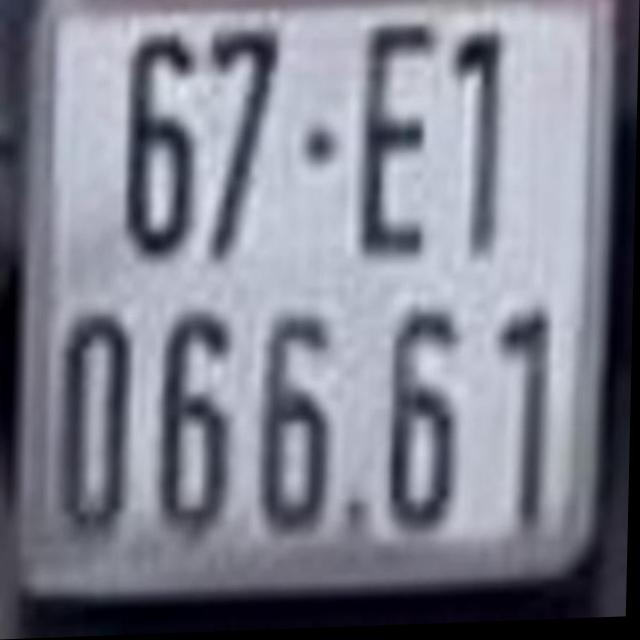0: (59, 317, 129, 532)
1: (445, 27, 506, 266), (498, 315, 549, 534)
6: (162, 314, 236, 541), (121, 28, 197, 249), (390, 311, 462, 543), (267, 318, 334, 535)
7: (205, 28, 282, 273)
E: (360, 21, 436, 261)
